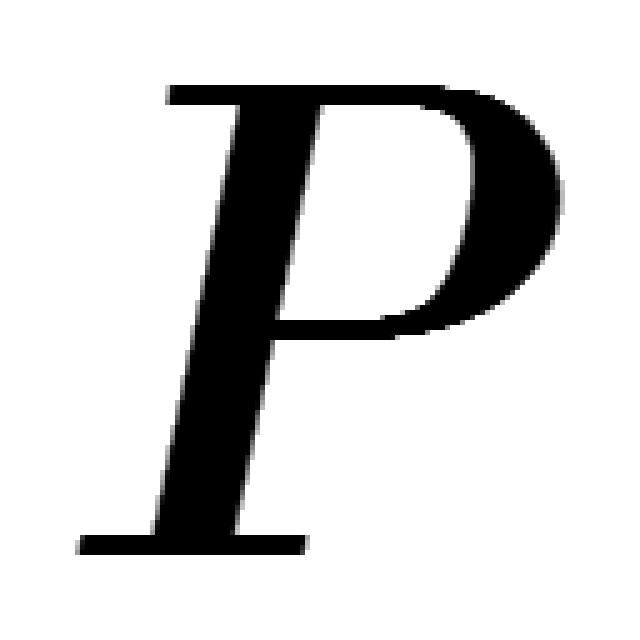P: (75, 85, 560, 560)
